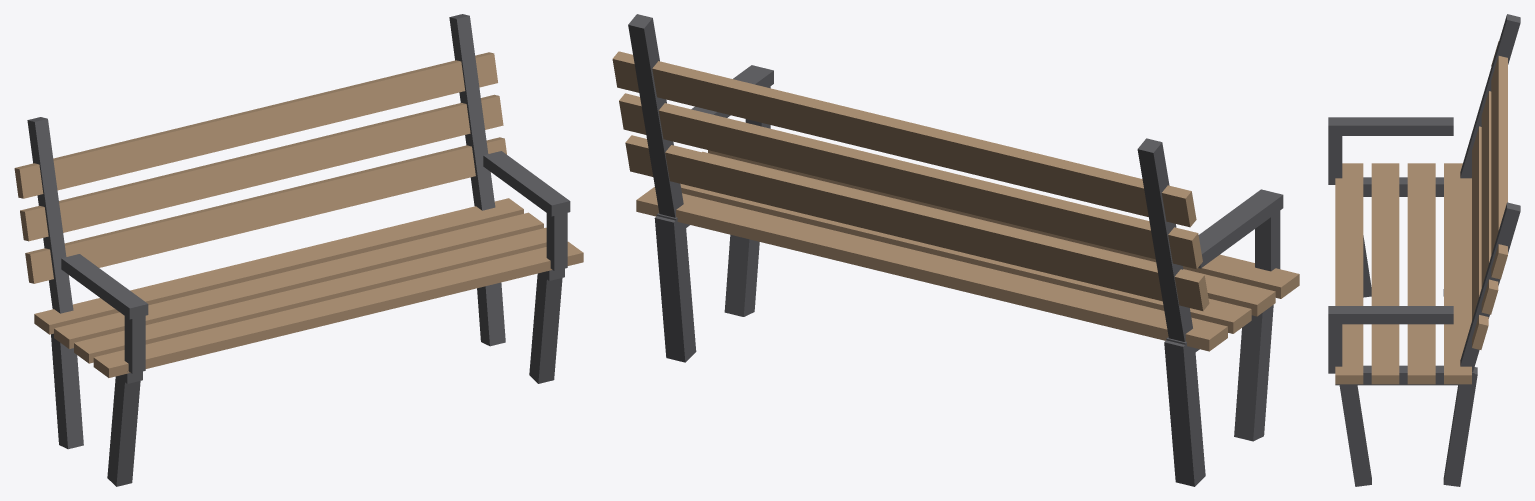
The model's file is Bench.glb.
The picture shows the model from 3 angles, left to right: view 1: azimuth 30°, elevation 25°; view 2: azimuth 150°, elevation 25°; view 3: azimuth 270°, elevation 25°; orthographic projection. The views are drawn at different scales.
Visible parts, largest first — view 1: Bench_cube.006, Bench_cube.005, Bench_cube.004, Bench_cube, Bench_cube.002, Bench_cube.001, Bench_cube.003, Bench_cube.016, Bench_cube.010, Bench_cube.007, Bench_cube.013, Bench_cube.008 (+5 smaller); view 2: Bench_cube.004, Bench_cube.005, Bench_cube.006, Bench_cube.003, Bench_cube.002, Bench_cube.014, Bench_cube.008, Bench_cube.010, Bench_cube.016, Bench_cube.007, Bench_cube, Bench_cube.011 (+4 smaller); view 3: Bench_cube.002, Bench_cube.001, Bench_cube.003, Bench_cube, Bench_cube.006, Bench_cube.011, Bench_cube.017, Bench_cube.005, Bench_cube.004, Bench_cube.014, Bench_cube.013, Bench_cube.016 (+6 smaller).
Part boxes in pixels (<box>): Bench_cube.006: <box>14,52,497,198</box>; Bench_cube.005: <box>20,94,503,241</box>; Bench_cube.004: <box>25,137,506,283</box>; Bench_cube: <box>93,241,583,377</box>; Bench_cube.002: <box>54,212,543,348</box>; Bench_cube.001: <box>74,227,546,363</box>; Bench_cube.003: <box>34,198,523,334</box>; Bench_cube.016: <box>449,14,495,210</box>; Bench_cube.010: <box>27,117,73,313</box>; Bench_cube.007: <box>107,374,140,486</box>; Bench_cube.013: <box>529,273,562,383</box>; Bench_cube.008: <box>51,333,83,449</box>; Bench_cube.004: <box>625,135,1209,310</box>; Bench_cube.005: <box>619,93,1202,269</box>; Bench_cube.006: <box>612,51,1196,227</box>; Bench_cube.003: <box>636,186,1227,351</box>; Bench_cube.002: <box>680,183,1251,333</box>; Bench_cube.014: <box>654,216,696,362</box>; Bench_cube.008: <box>1164,340,1205,486</box>; Bench_cube.010: <box>1137,138,1192,341</box>; Bench_cube.016: <box>628,14,683,217</box>; Bench_cube.007: <box>1234,305,1273,441</box>; Bench_cube: <box>708,150,1299,298</box>; Bench_cube.011: <box>1198,189,1283,268</box>; Bench_cube.002: <box>1407,163,1435,384</box>; Bench_cube.001: <box>1371,163,1399,384</box>; Bench_cube.003: <box>1444,163,1471,384</box>; Bench_cube: <box>1335,163,1363,384</box>; Bench_cube.006: <box>1491,41,1507,279</box>; Bench_cube.011: <box>1328,117,1453,135</box>; Bench_cube.017: <box>1328,306,1453,324</box>; Bench_cube.005: <box>1481,91,1498,314</box>; Bench_cube.004: <box>1472,126,1488,349</box>; Bench_cube.014: <box>1443,367,1477,486</box>; Bench_cube.013: <box>1339,384,1371,486</box>; Bench_cube.016: <box>1460,202,1520,372</box>.
Bounding box in the file's own units: 1.8 × 1.1 × 0.6897.
